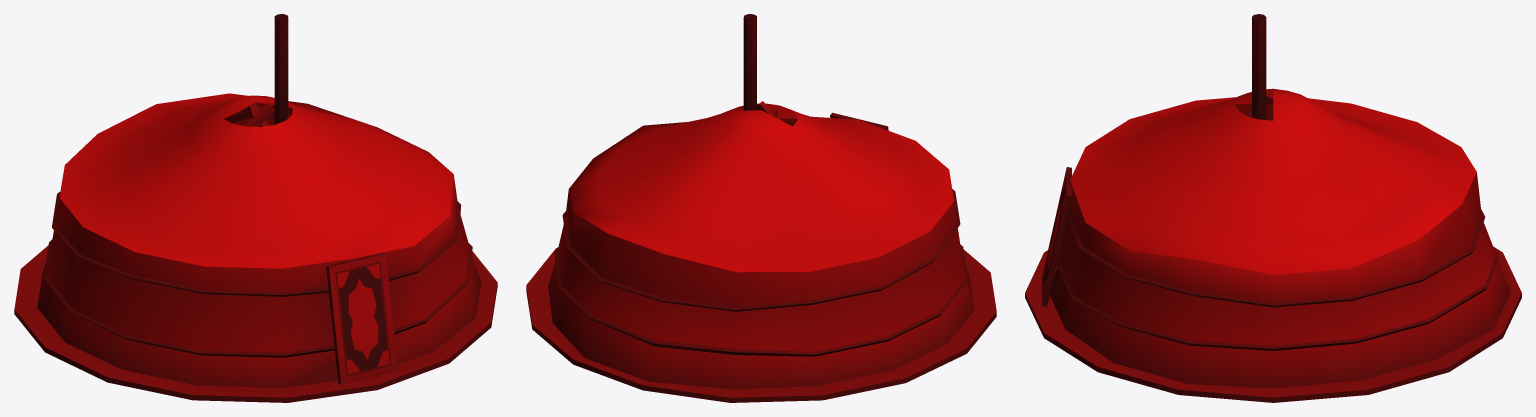
File: buildings-tents-yurt_v2.fbx
3 renders of one model, left to right at view 1: azimuth 30°, elevation 25°; view 2: azimuth 150°, elevation 25°; view 3: azimuth 270°, elevation 25°, orthographic. The views are drawn at different scales.
Parts seen in each view (by area): view 1: Yurt_v2; view 2: Yurt_v2; view 3: Yurt_v2.
Boxes of the visible parts, x1,y1,x2,y2 form: Yurt_v2: (14,14,497,402); Yurt_v2: (526,14,996,402); Yurt_v2: (1025,14,1521,402).
Bounding box in the file's own units: 14.2 × 9.15 × 14.2.
